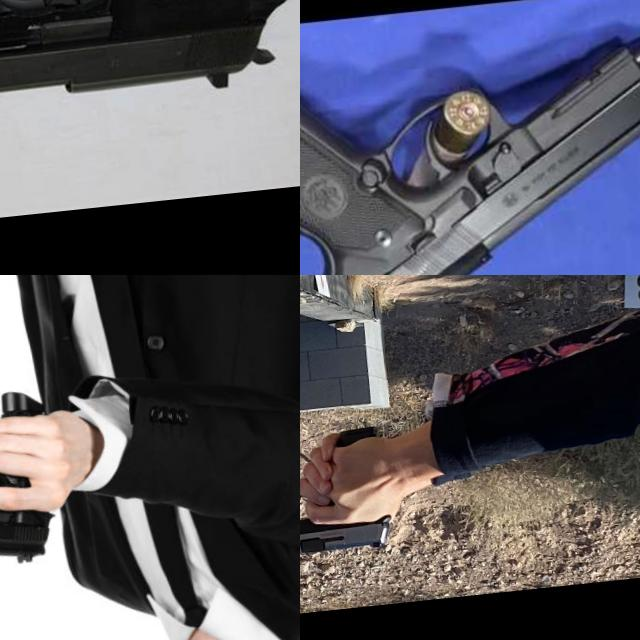handgun: (300, 8, 640, 275), (0, 0, 300, 210), (0, 457, 91, 579), (300, 483, 395, 567)
